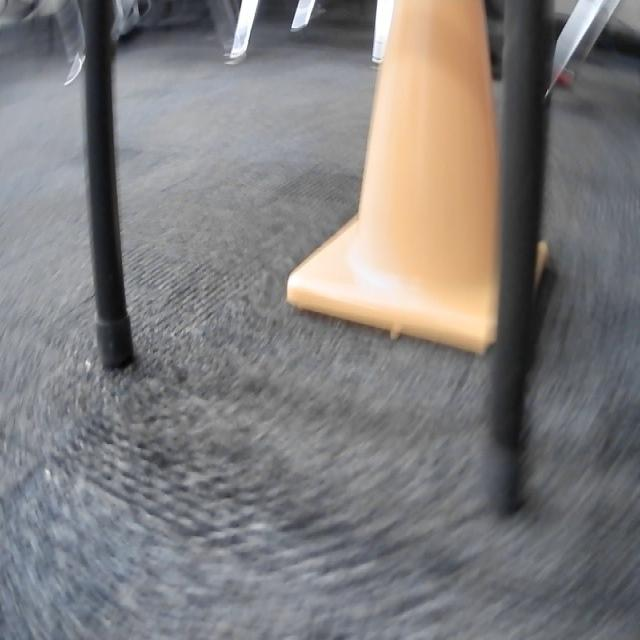cone: (285, 0, 549, 352)
